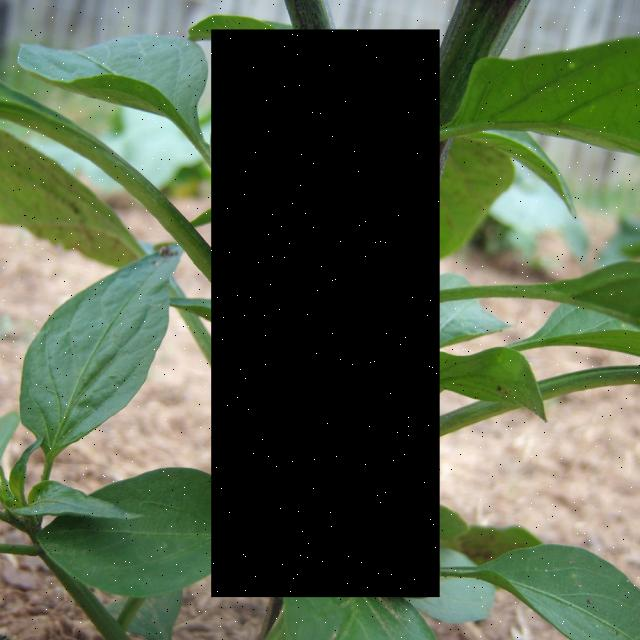Chili_Pepper: (211, 29, 440, 597)
